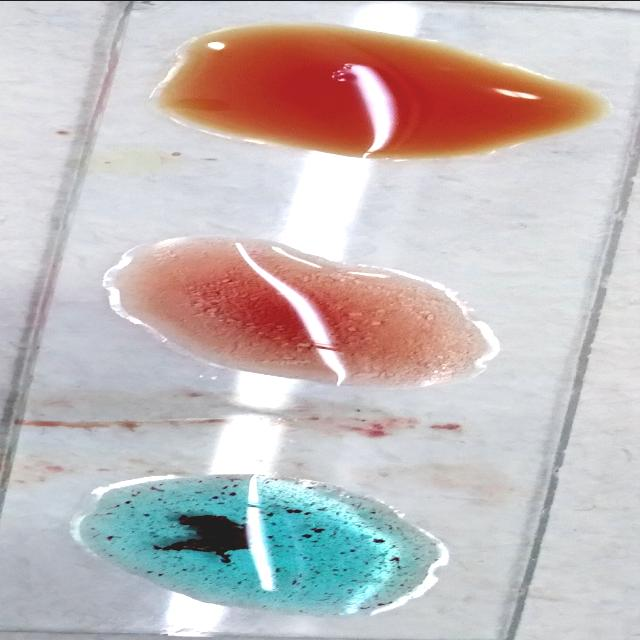A: (63, 482, 445, 606)
D: (116, 245, 490, 374)
